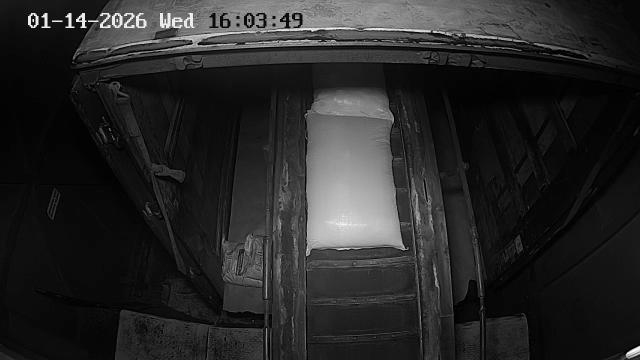bag: (306, 109, 407, 256), (307, 62, 394, 122)
